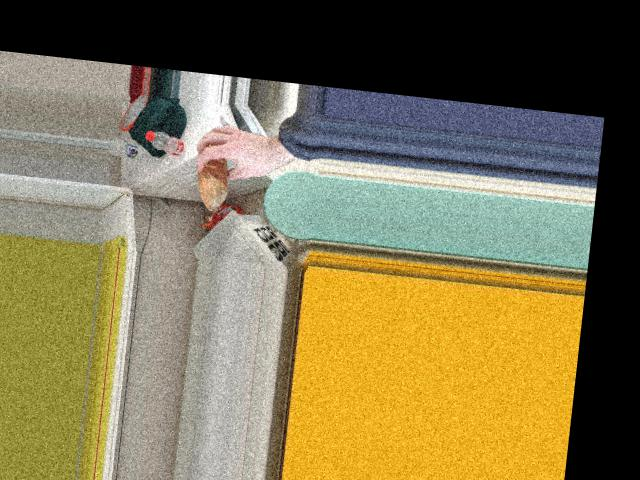sweet_potato: (198, 146, 238, 196)
